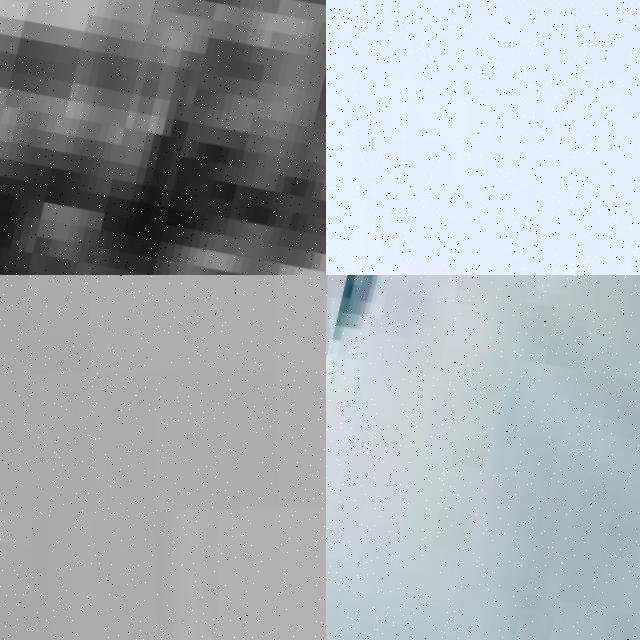drone: (326, 275, 640, 640), (0, 0, 326, 275)
